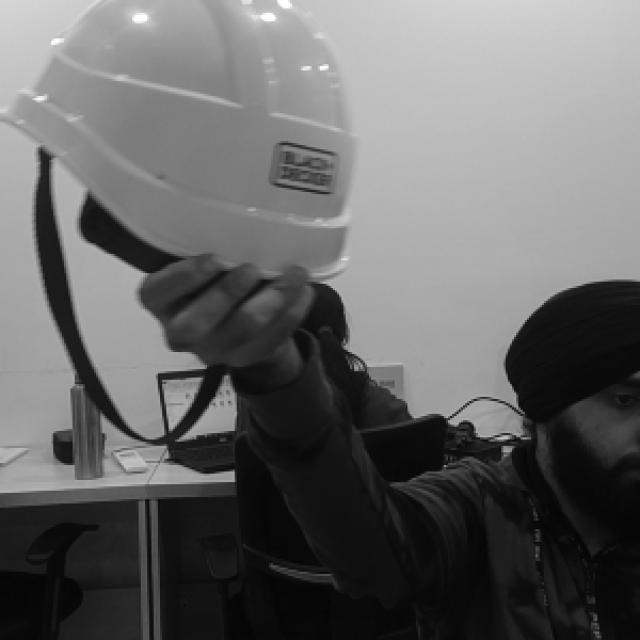safety_helmet: (0, 2, 356, 277)
